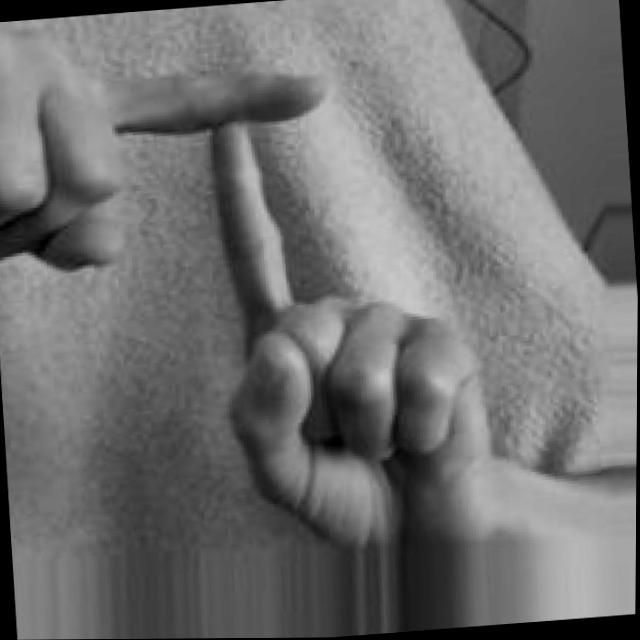T: (0, 0, 497, 570)
